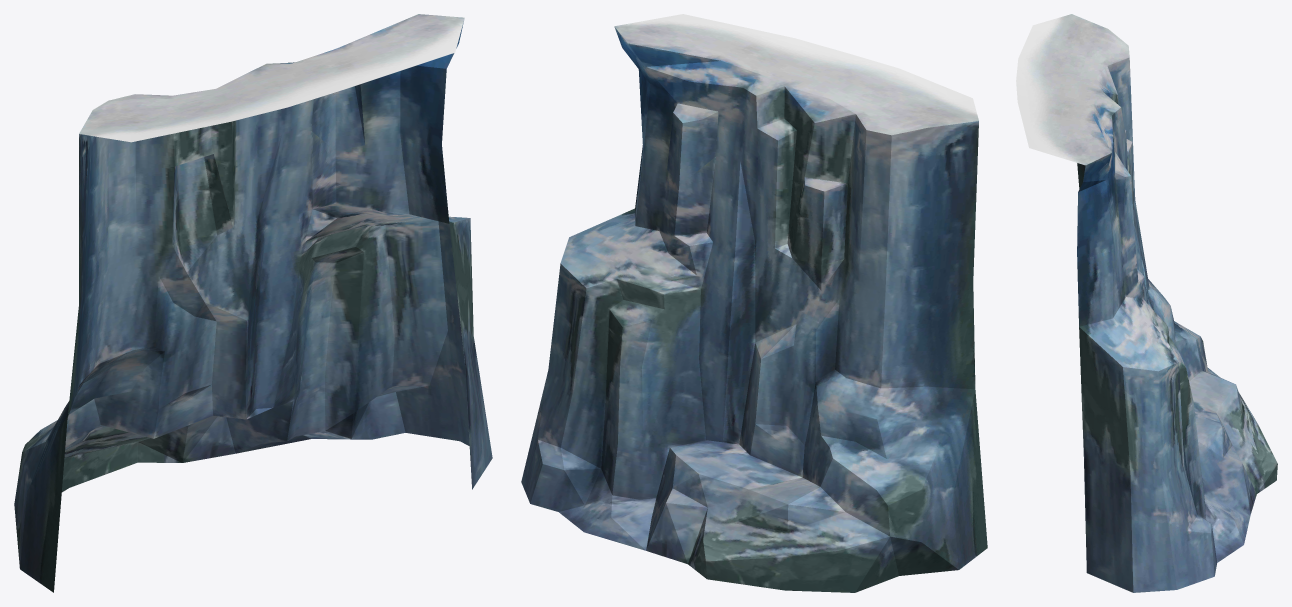
File: map_114_shitou_4.fbx
The picture shows the model from 3 angles, left to right: view 1: azimuth 30°, elevation 25°; view 2: azimuth 150°, elevation 25°; view 3: azimuth 270°, elevation 25°; orthographic projection. The views are drawn at different scales.
Visible parts, largest first — view 1: map_114_shitou_4; view 2: map_114_shitou_4; view 3: map_114_shitou_4.
Part boxes in pixels (left/top/right/bottom): map_114_shitou_4: left=14, top=14, right=492, bottom=592; map_114_shitou_4: left=521, top=14, right=987, bottom=592; map_114_shitou_4: left=1016, top=14, right=1277, bottom=592.
Size of the model in its own units: 5.88 by 5.71 by 3.34.
